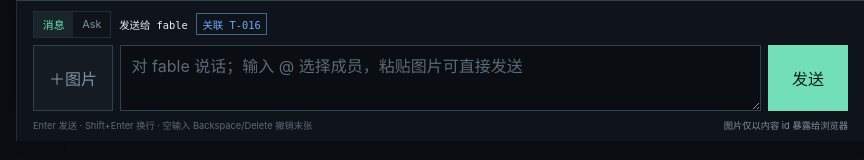
Test: work conversation composer › defaults to Leader, links the selected task and never posts actor
The image size is (864, 160).
In the text box with placeholder "对 fable 说话；输入 @ 选择成员，粘贴图片可直接发送": (440, 78) x1=120 y1=45 x2=761 y2=111, type "请验收浏览器消息闭环"
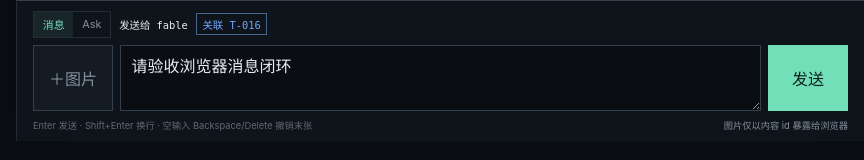
Click the button with class "send-button": (808, 78) x1=768 y1=45 x2=848 y2=111
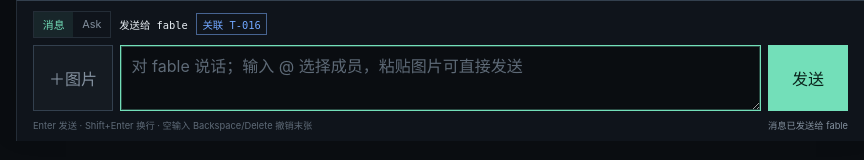
Result: the text "消息已发送给 fable" is shown at x1=768 y1=118 x2=848 y2=132
